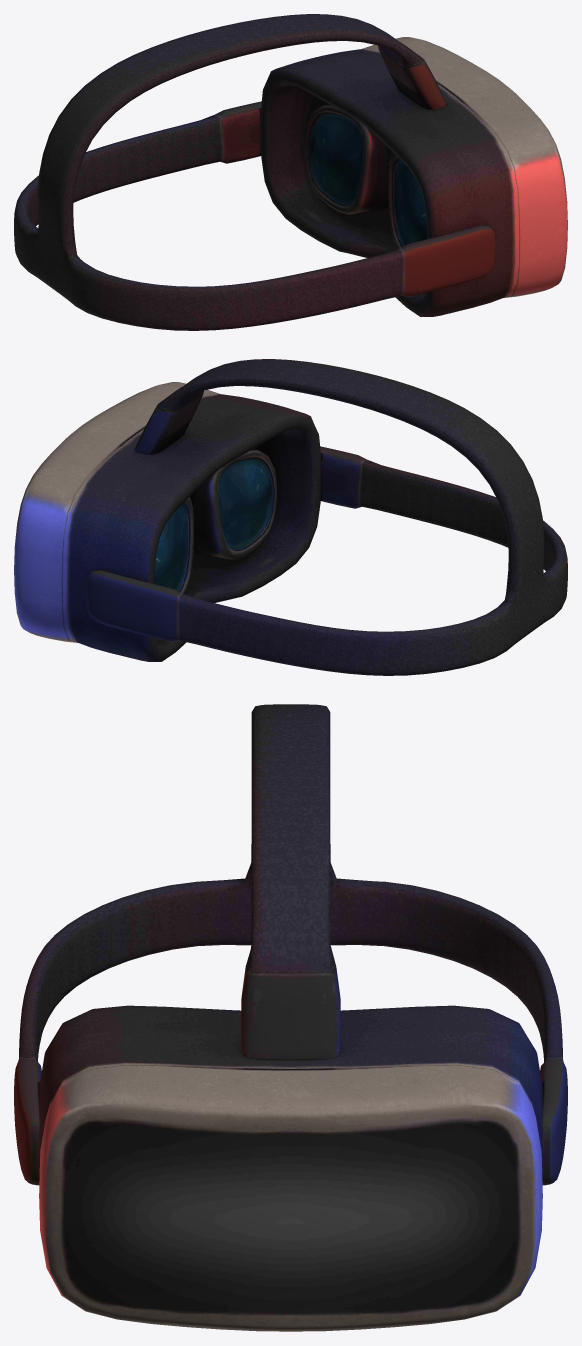
The model's file is VR_Headset.glb.
3 views of the same model, one above another, from view 1: azimuth 30°, elevation 25°; view 2: azimuth 150°, elevation 25°; view 3: azimuth 270°, elevation 25° (orthographic). The views are drawn at different scales.
Parts seen in each view (by area): view 1: Retopo_Cube.002, Retopo_MainVisor.001, Retopo_Lenses.001; view 2: Retopo_Cube.002, Retopo_MainVisor.001, Retopo_Lenses.001; view 3: Retopo_MainVisor.001, Retopo_Cube.002.
Boxes of the visible parts, x1,y1,x2,y2 form: Retopo_Cube.002: (14, 14, 495, 330); Retopo_MainVisor.001: (260, 37, 567, 316); Retopo_Lenses.001: (304, 103, 427, 248); Retopo_Cube.002: (86, 359, 567, 675); Retopo_MainVisor.001: (14, 382, 321, 661); Retopo_Lenses.001: (154, 448, 277, 593); Retopo_MainVisor.001: (39, 1005, 542, 1331); Retopo_Cube.002: (14, 704, 567, 1185).
Size of the model in its own units: 3 by 1.68 by 2.19.
3 materials, 3 textured.
